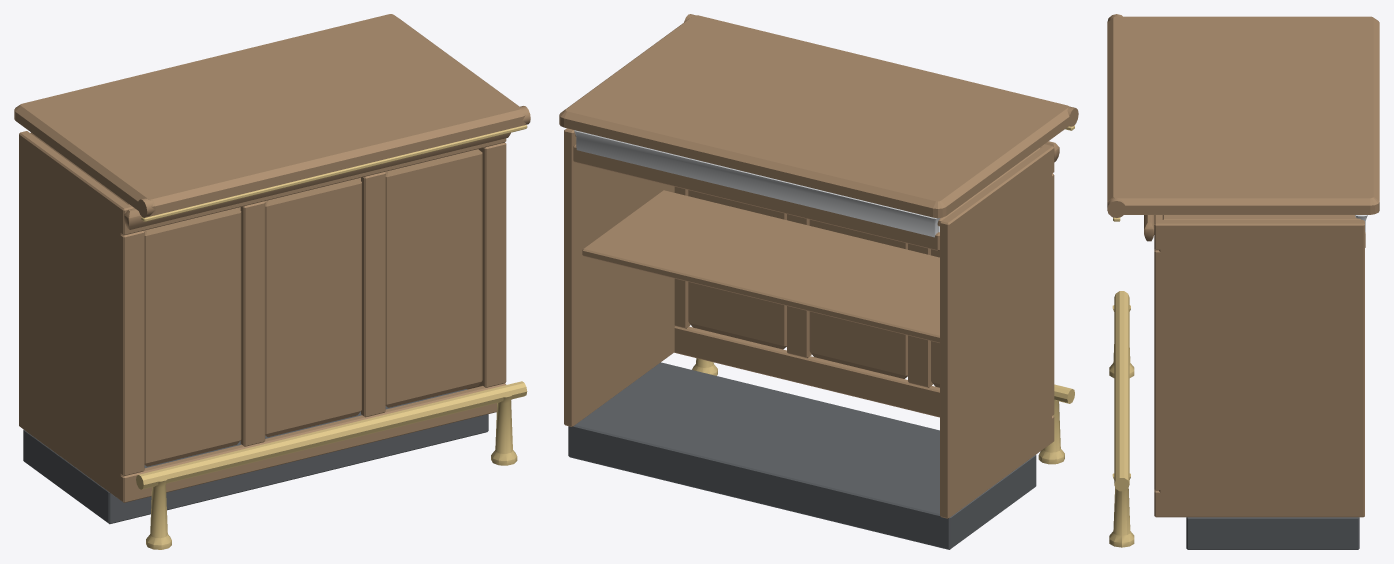
File: bar-pub-and-brewery-taproom-bar-counter-module-4f0062bc.glb
3 views of the same model, side by side, from view 1: azimuth 30°, elevation 25°; view 2: azimuth 150°, elevation 25°; view 3: azimuth 270°, elevation 25° (orthographic).
Parts seen in each view (by area): view 1: bar-counter-module; view 2: bar-counter-module; view 3: bar-counter-module.
Boxes of the visible parts, x1,y1,x2,y2 form: bar-counter-module: (14,14,530,549); bar-counter-module: (559,14,1078,549); bar-counter-module: (1107,14,1379,549).
Bounding box in the file's own units: 1.2 × 1.05 × 0.74.
